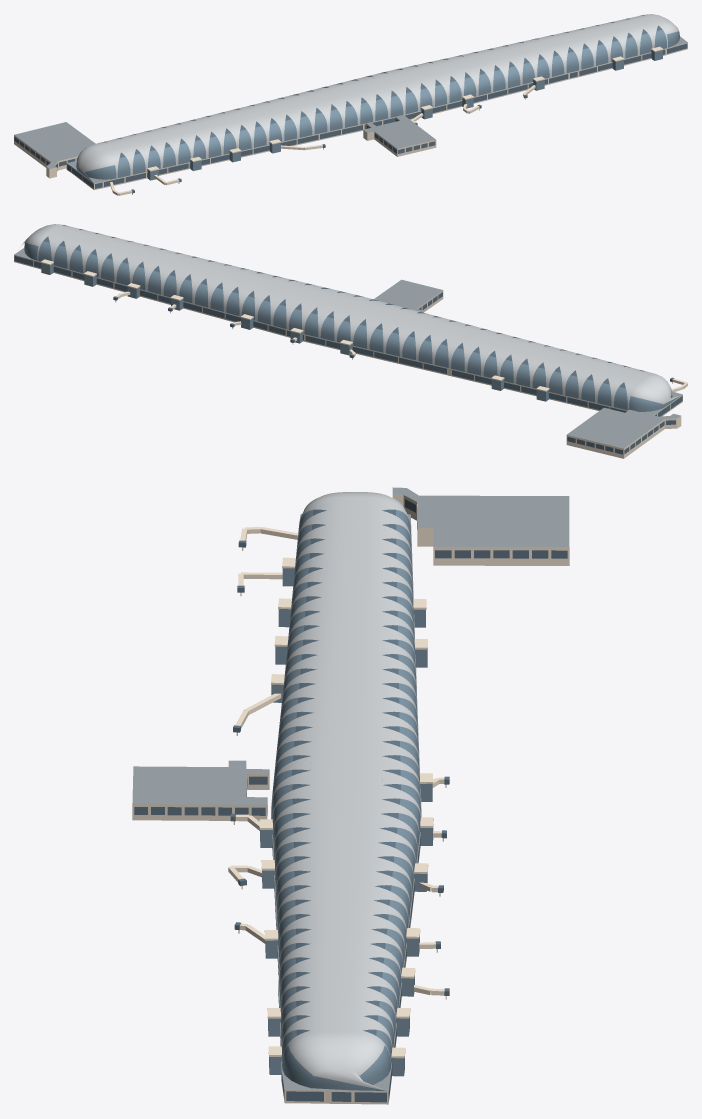
The model's file is dubai-dxb-concourse-b.detail.glb.
The picture shows the model from 3 angles, top to bottom: view 1: azimuth 30°, elevation 25°; view 2: azimuth 150°, elevation 25°; view 3: azimuth 270°, elevation 25°; orthographic projection. The views are drawn at different scales.
Parts seen in each view (by area): view 1: Dubai International Airport Concourse B; view 2: Dubai International Airport Concourse B; view 3: Dubai International Airport Concourse B.
Boxes of the visible parts, x1,y1,x2,y2 form: Dubai International Airport Concourse B: (14,14,687,195); Dubai International Airport Concourse B: (14,224,687,458); Dubai International Airport Concourse B: (132,487,569,1104).
Bounding box in the file's own units: 953 × 38 × 294.
